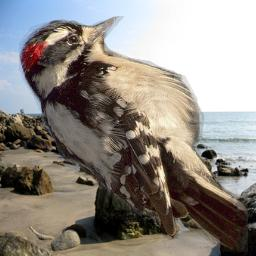Woodpecker: (19, 16, 248, 252)
